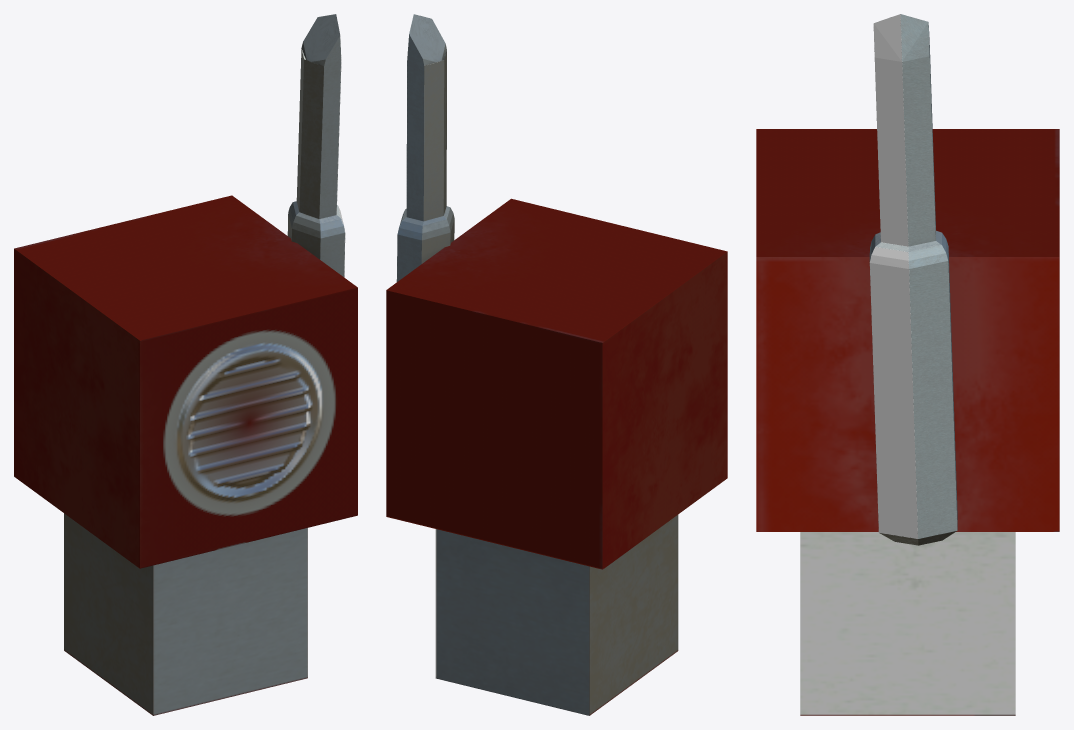
File: R_SHOULDER.obj
The picture shows the model from 3 angles, left to right: view 1: azimuth 30°, elevation 25°; view 2: azimuth 150°, elevation 25°; view 3: azimuth 270°, elevation 25°; orthographic projection. The views are drawn at different scales.
Parts seen in each view (by area): view 1: pasted__pCube48 group3 group1 group, group3 group1 group pasted__pCylinder30; view 2: pasted__pCube48 group3 group1 group, group3 group1 group pasted__pCylinder30; view 3: pasted__pCube48 group3 group1 group, group3 group1 group pasted__pCylinder30.
Boxes of the visible parts, x1,y1,x2,y2 form: pasted__pCube48 group3 group1 group: (14,195,357,715); group3 group1 group pasted__pCylinder30: (287,14,345,277); pasted__pCube48 group3 group1 group: (386,198,727,715); group3 group1 group pasted__pCylinder30: (396,14,454,281); pasted__pCube48 group3 group1 group: (756,129,1059,715); group3 group1 group pasted__pCylinder30: (869,14,957,545).
Bounding box in the file's own units: 1.46 × 3.24 × 1.2.
1 material, 1 textured.
